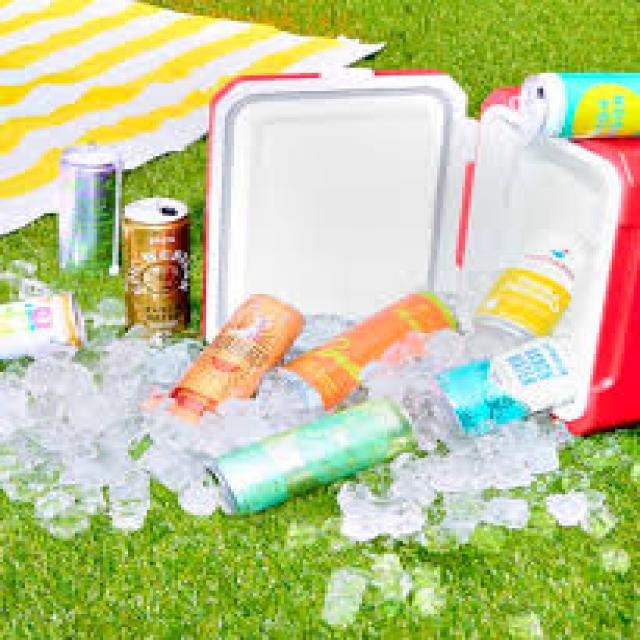Cans: (206, 398, 415, 526), (172, 286, 306, 424), (112, 195, 197, 333), (47, 141, 125, 273)
